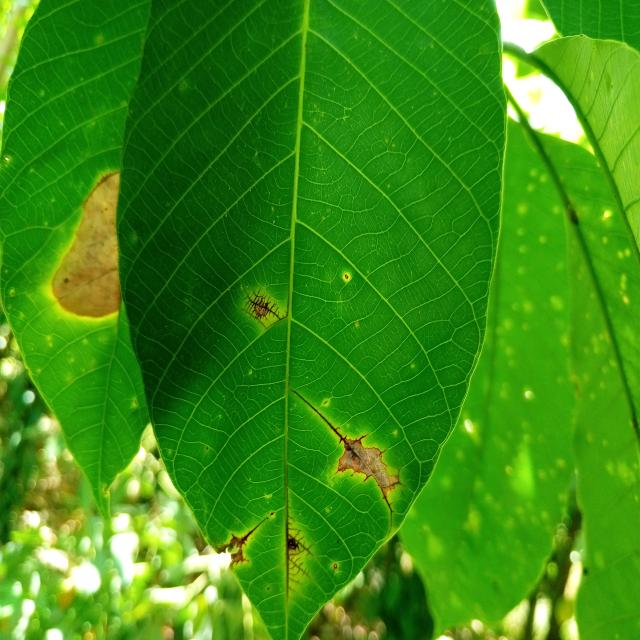Colletotrichum: (345, 274, 348, 280), (333, 564, 337, 568)
Corynespora: (291, 388, 405, 534), (286, 488, 313, 602), (240, 286, 289, 330), (238, 517, 268, 547)
Leaf-Blight: (52, 170, 122, 318)
